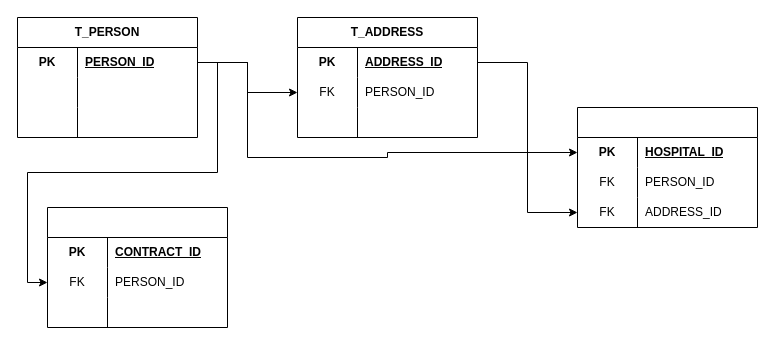
The diagram is 775 pixels wide and 345 high, and some of its shapes have lost their labels. Each missing label, with the box of its shape:
T_CONTRACT: (46, 206, 228, 328)
T_HOSPITAL: (576, 106, 758, 228)
